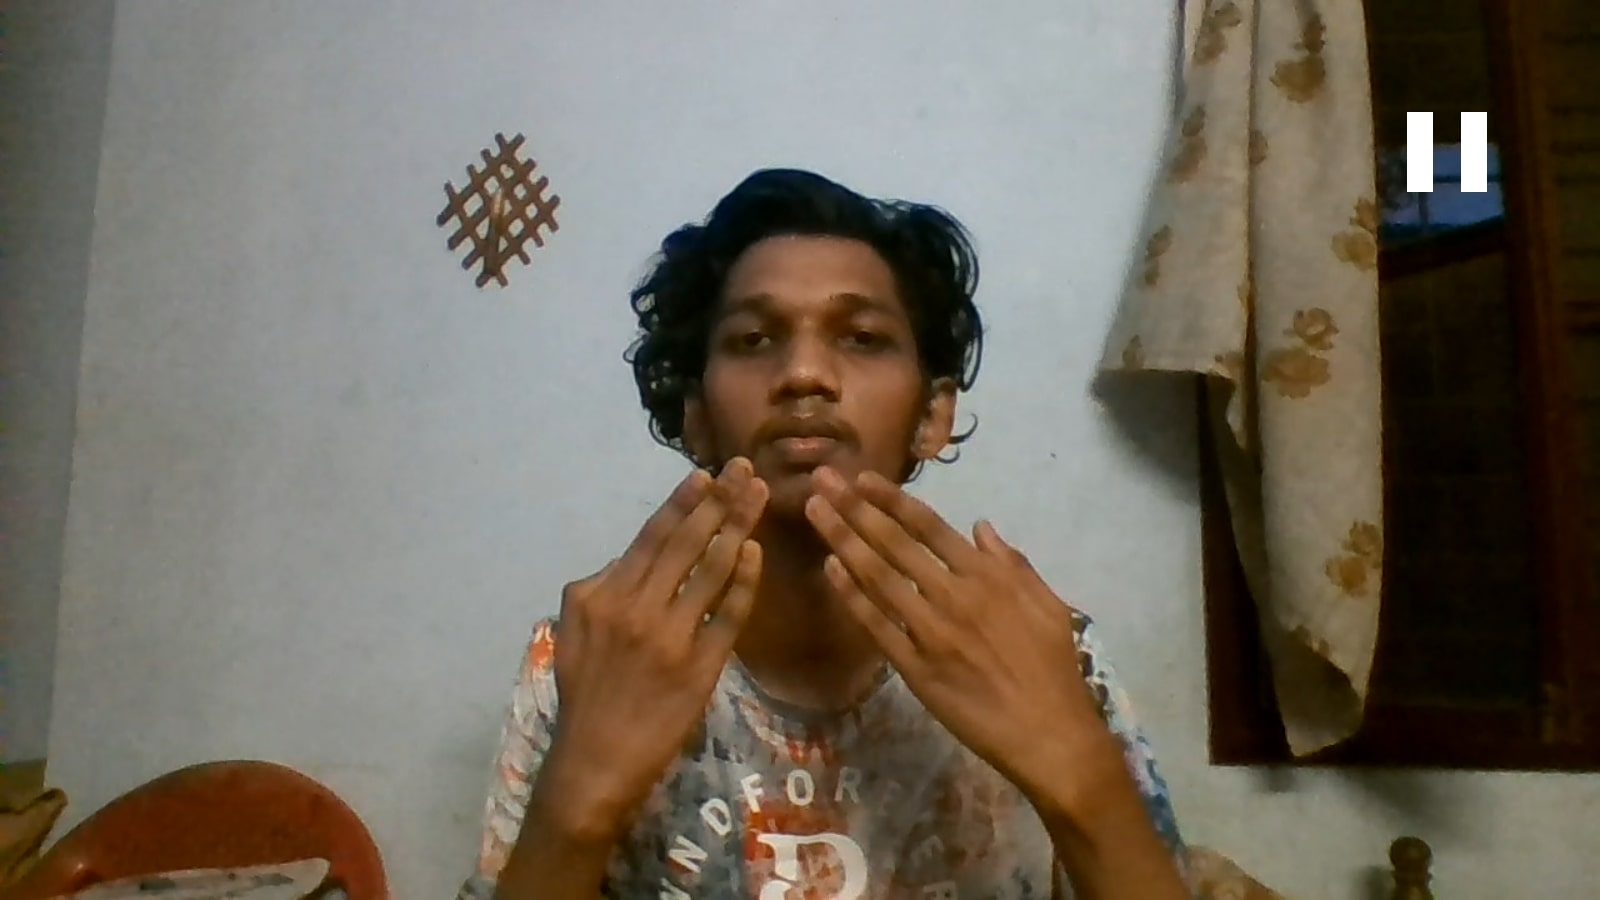ThankYou: (553, 456, 1080, 762)
